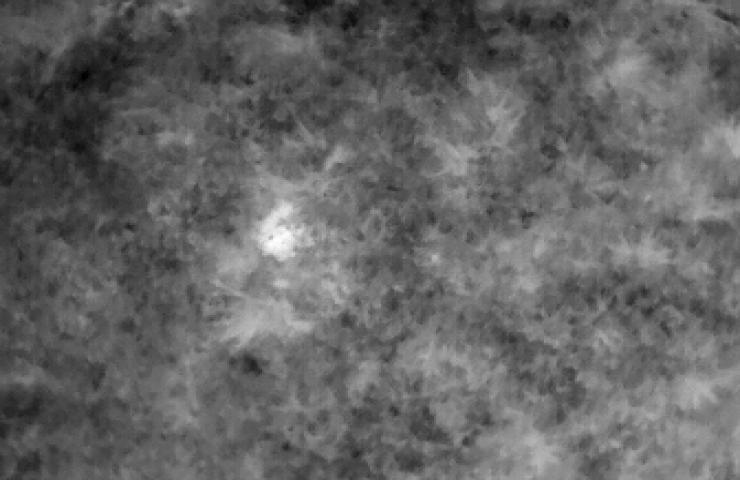landmines: (253, 197, 319, 263)
